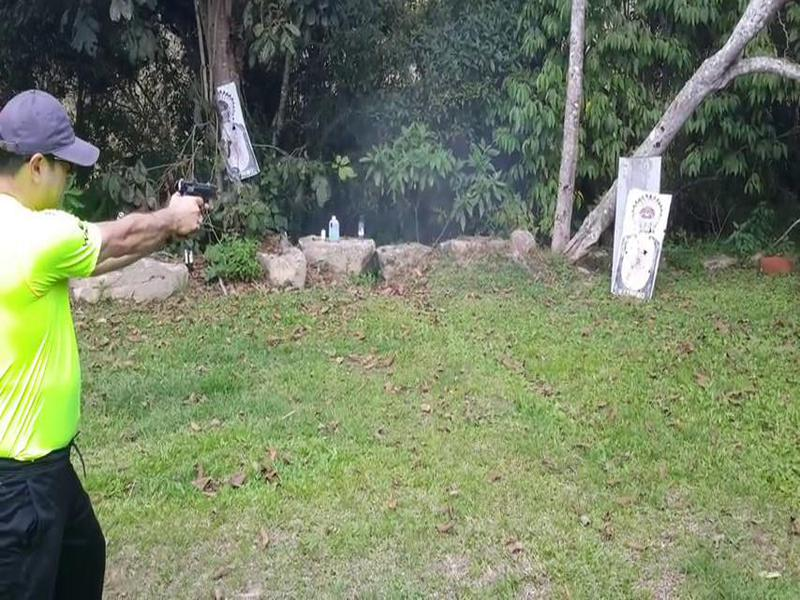Pistola: (168, 170, 223, 225)
